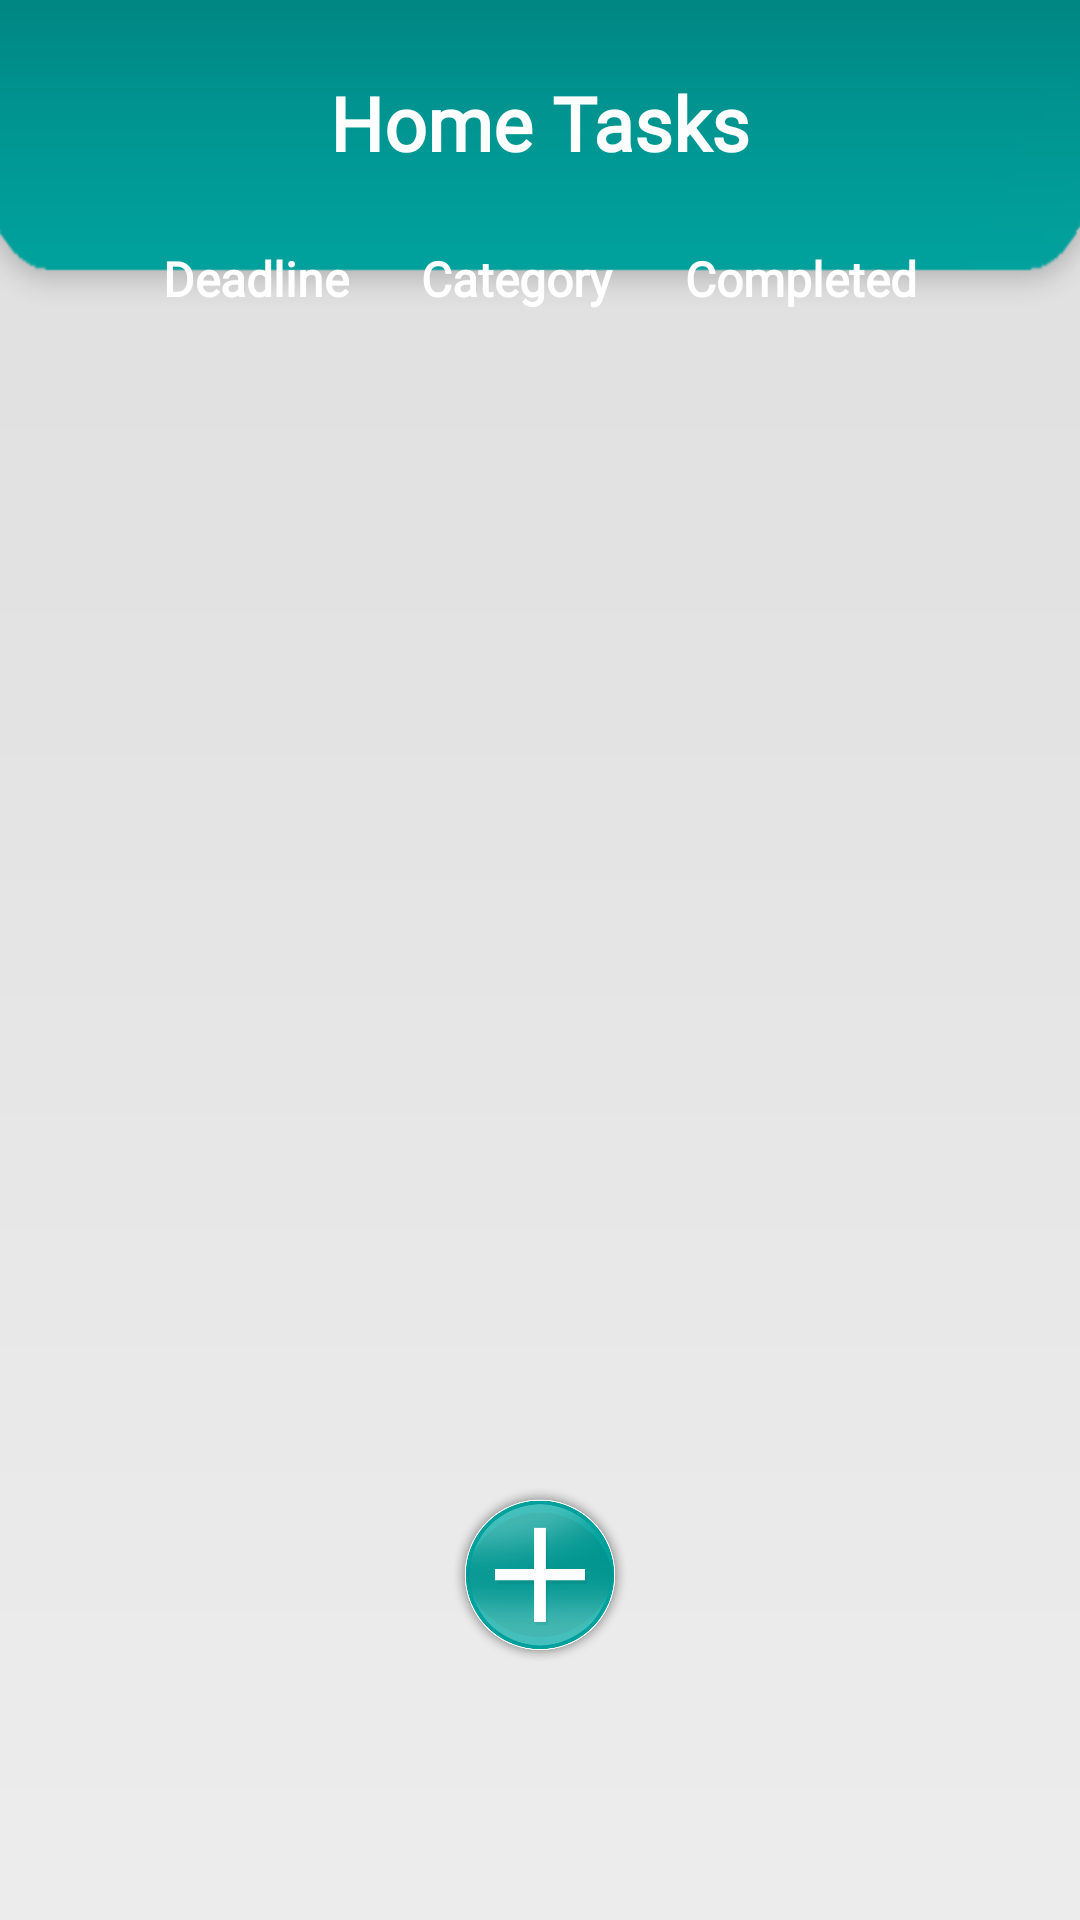

Icons on this 1080px×1920px Android screen, each with the point to tap as point (x, y):
plus: point (540, 1575)
